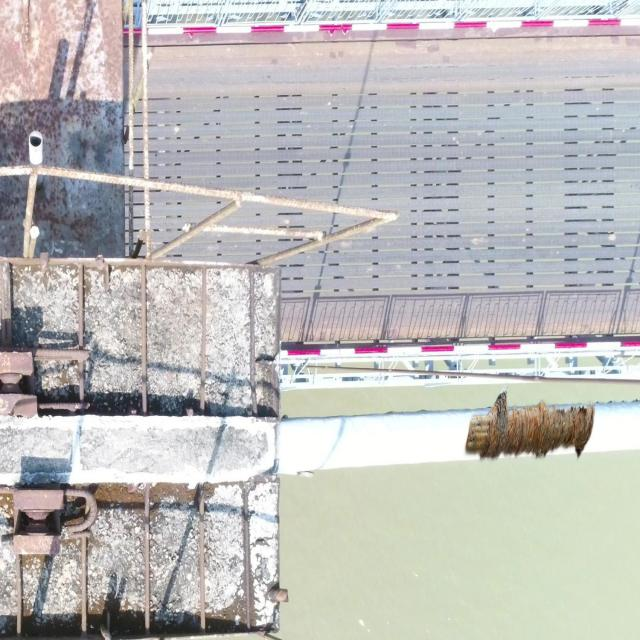corrosion: (464, 388, 598, 465)
